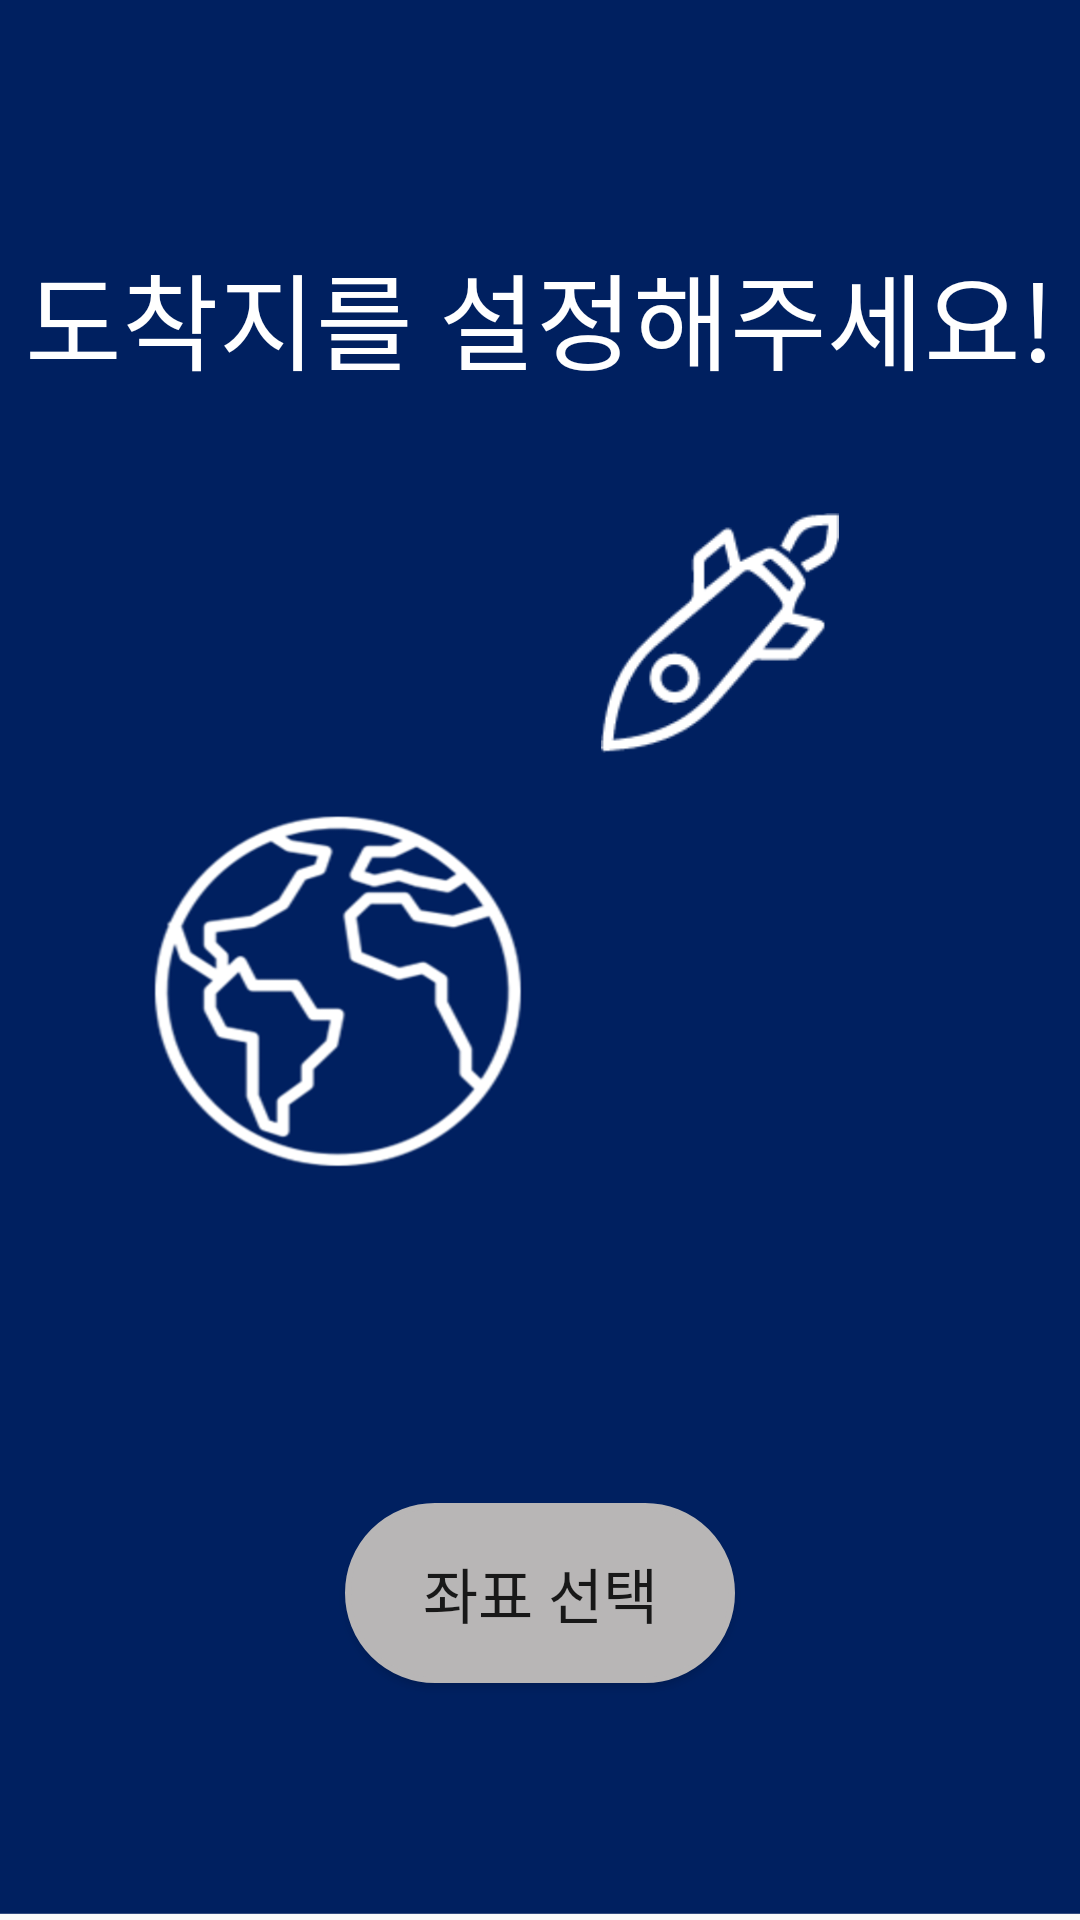

Screen size 1080 x 1920. Icon name, then its box in pixels as (x1,y1,x2,y2):
rocket symbol rotation: (601,513,839,753)
